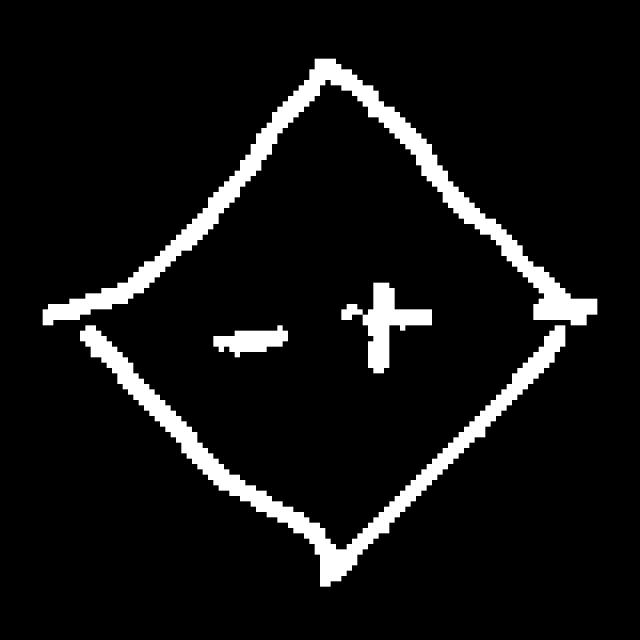dependant_voltage: (73, 50, 569, 566)
